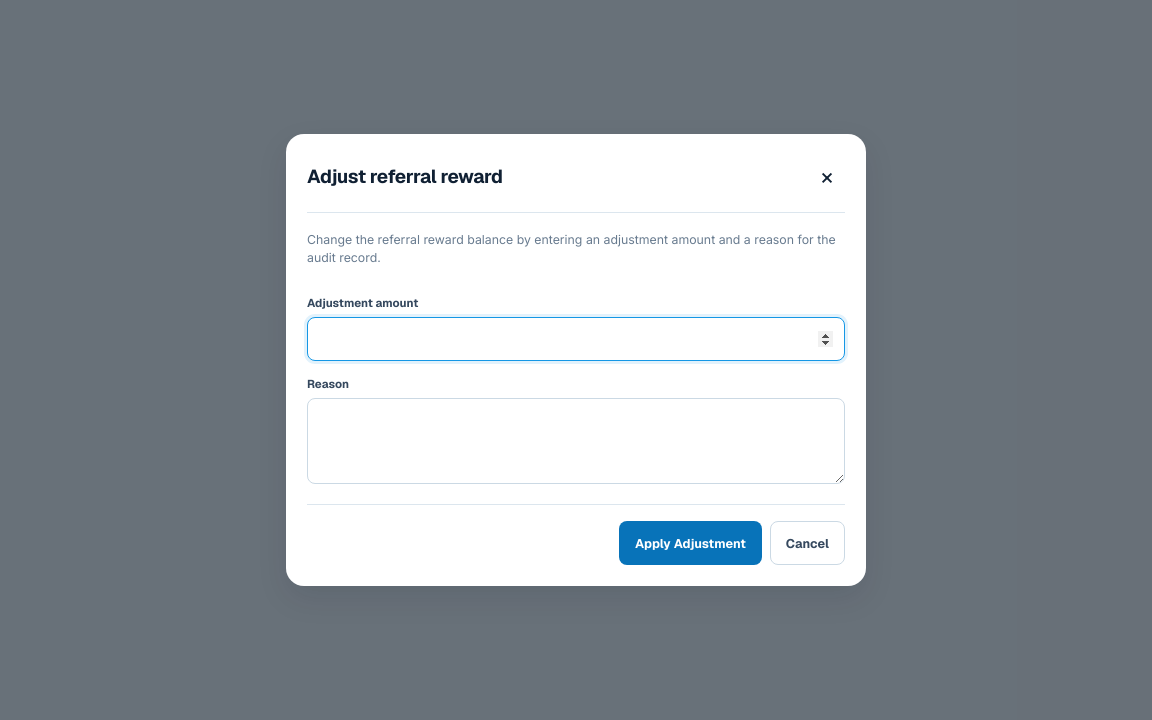
RewardAdjustmentDialog › rejects amount with more than two decimal places
This screenshot has width=1152, height=720.
Type "0.001" into the number field labelled "Adjustment amount" at (576, 339), box [307, 317, 845, 361]
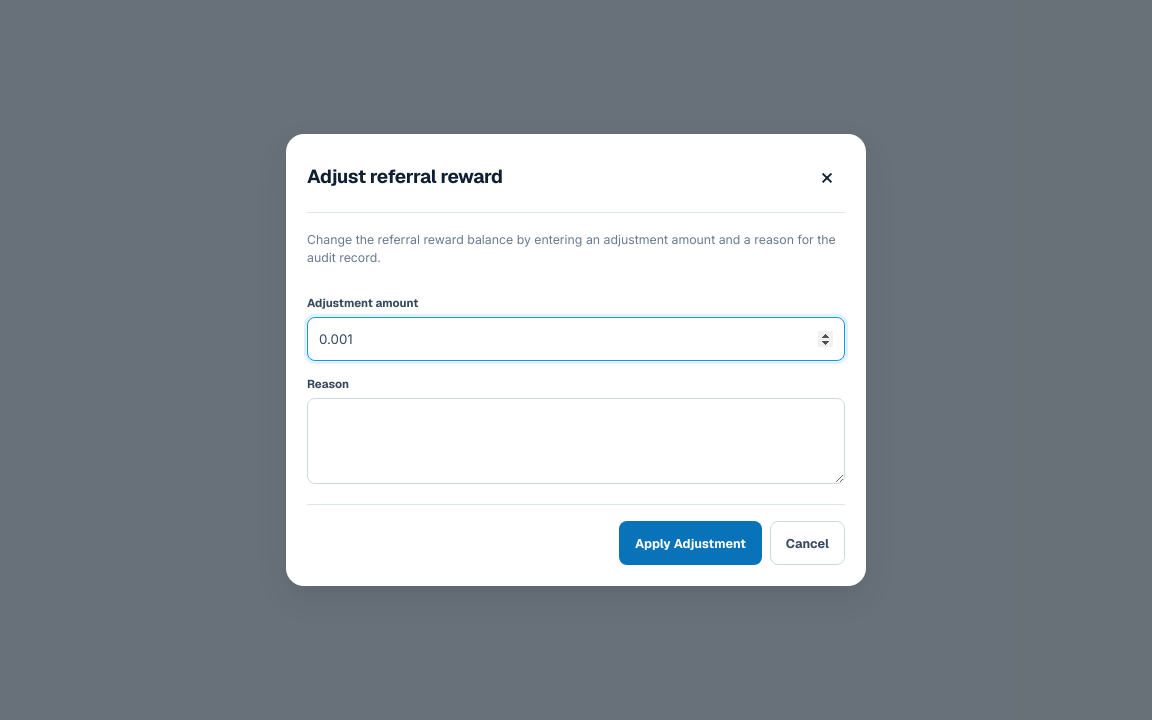
Type "Valid reason text" into the text box labelled "Reason" at (576, 441), box [307, 398, 845, 484]
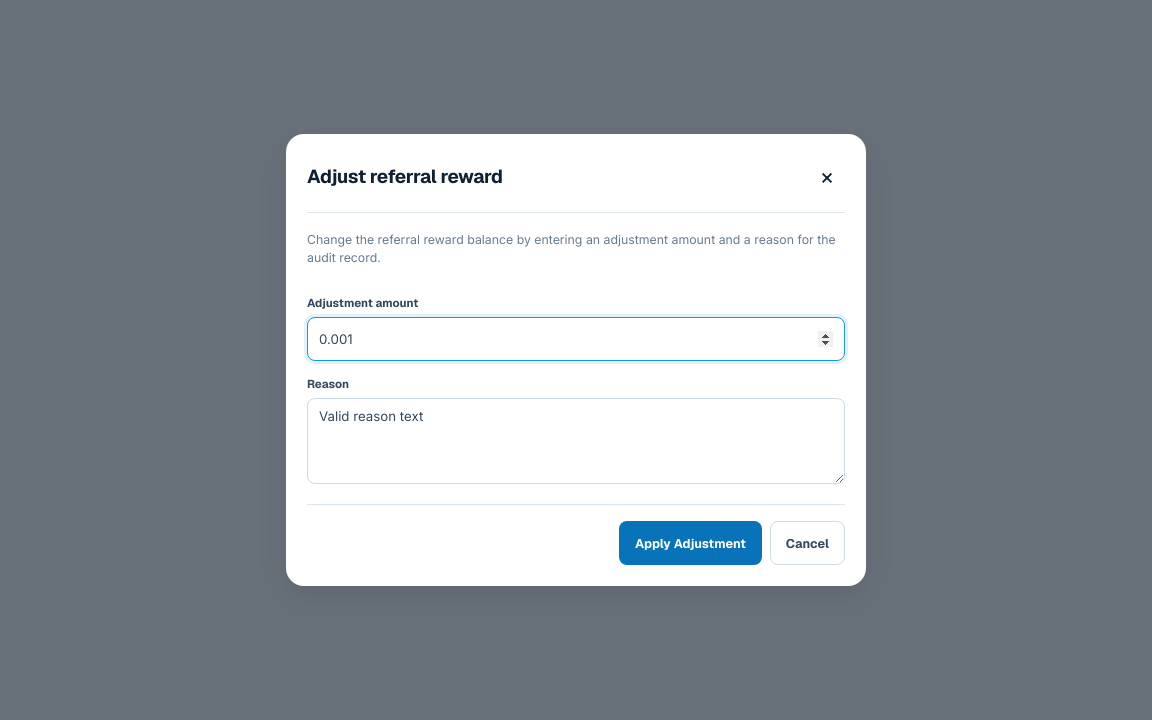
Submit the form, box [307, 231, 845, 565]
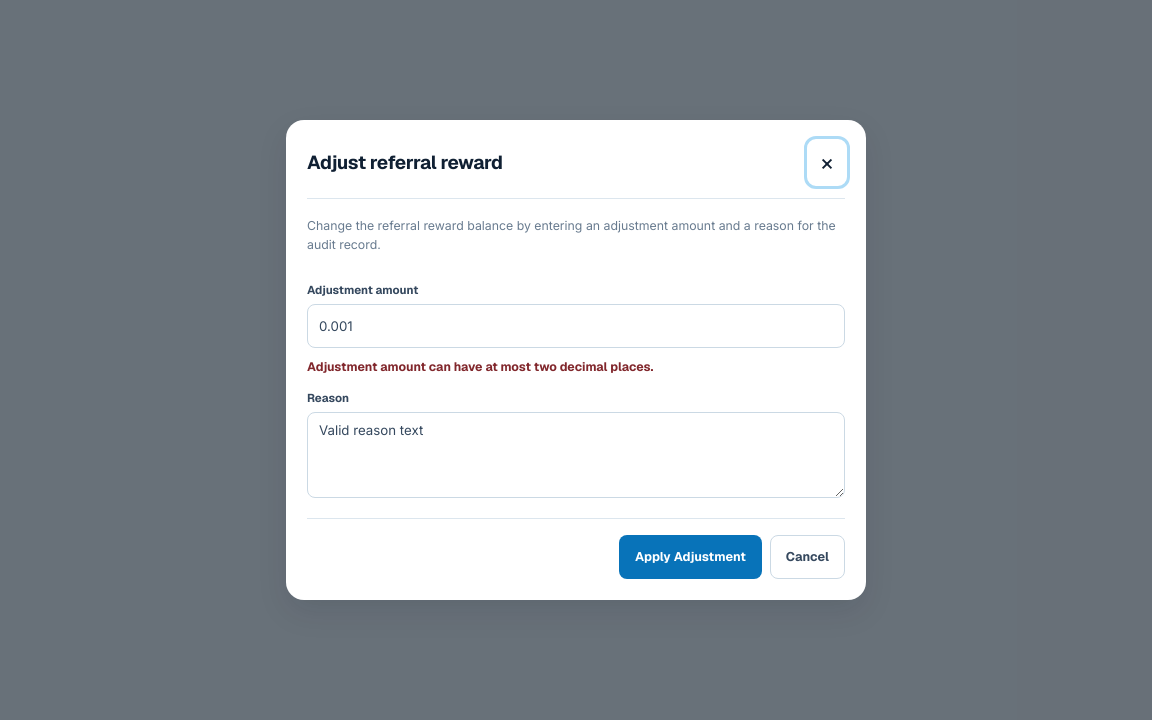
Expected: the text "Adjustment amount can have at most two decimal places." is shown, [307, 359, 654, 375]
